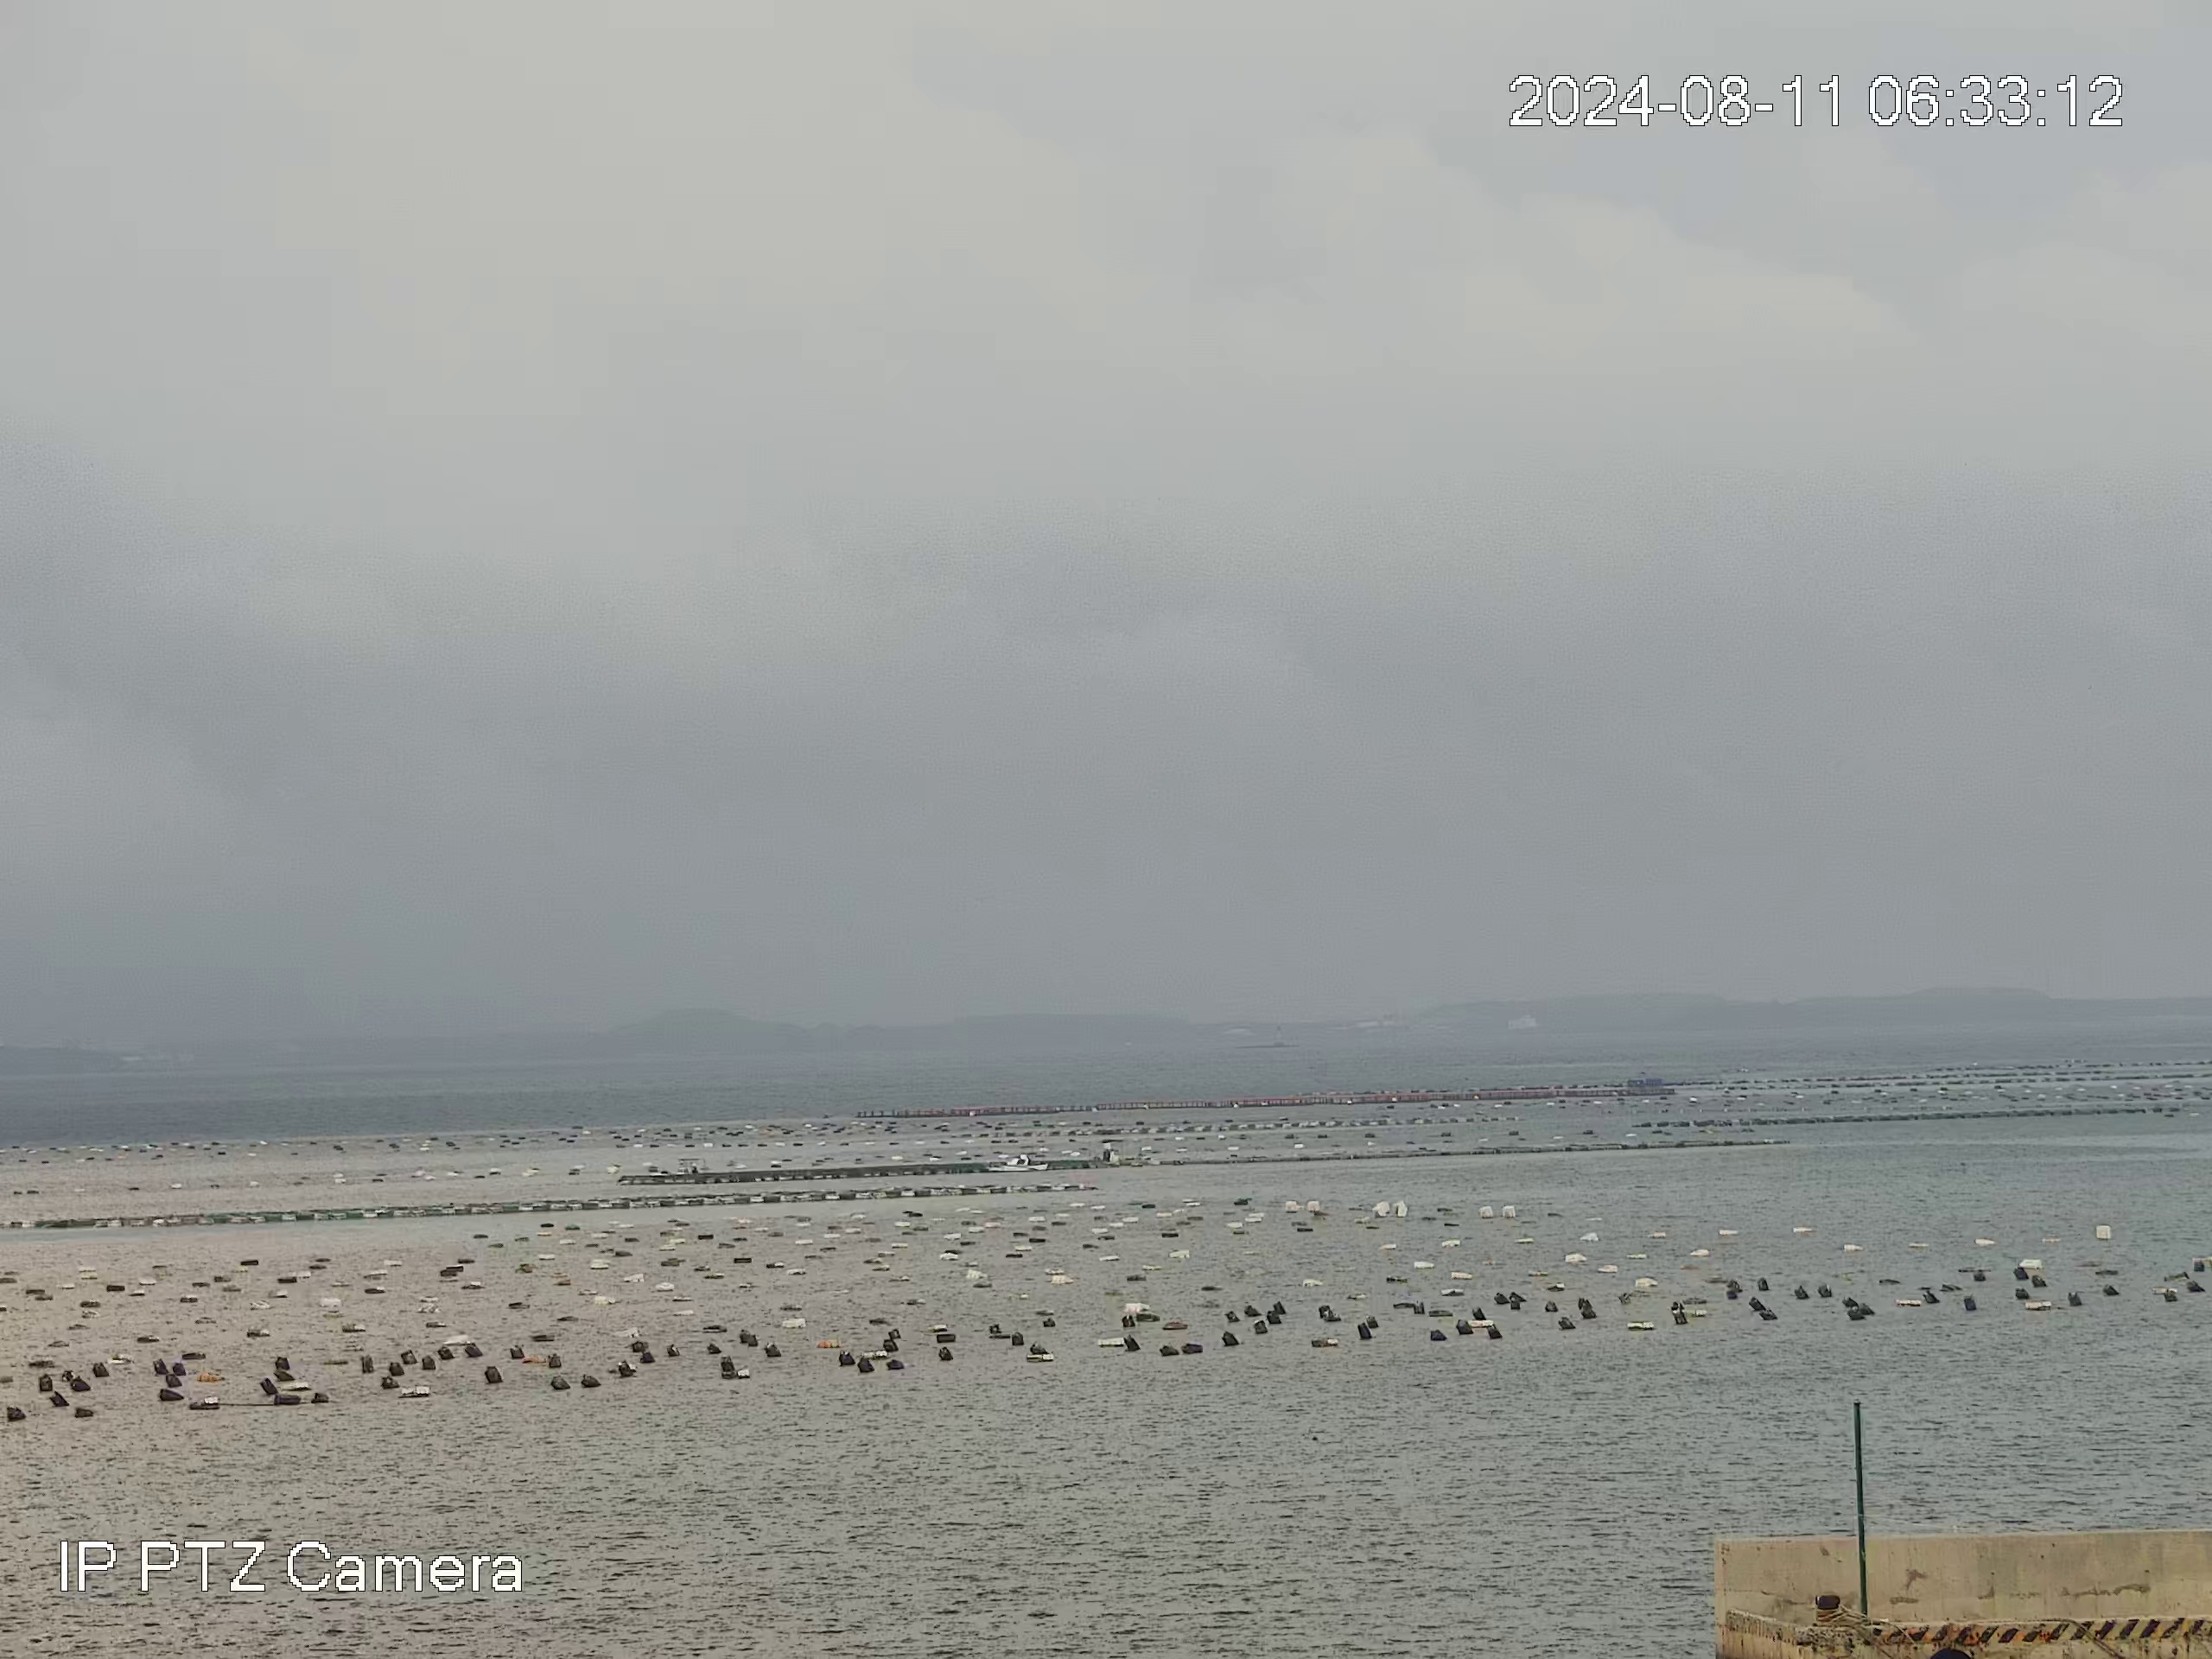boat: (984, 1152, 1050, 1173)
